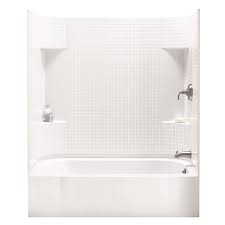bathub: (29, 156, 200, 217)
